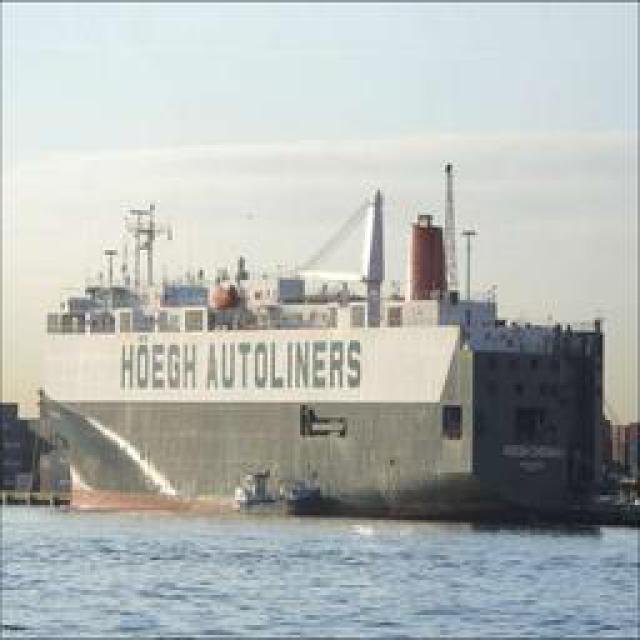Ship: (35, 185, 508, 510)
